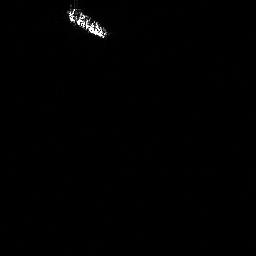ship: (62, 4, 113, 42)
